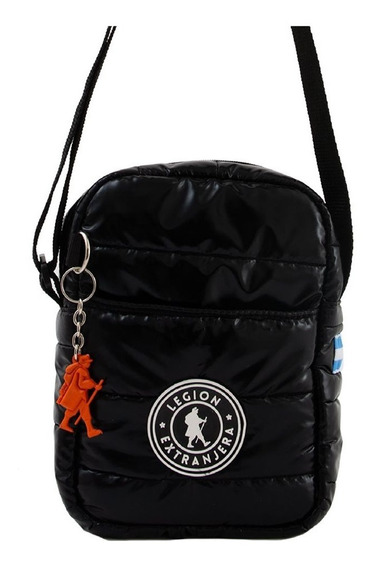cartera: (31, 23, 355, 544)
